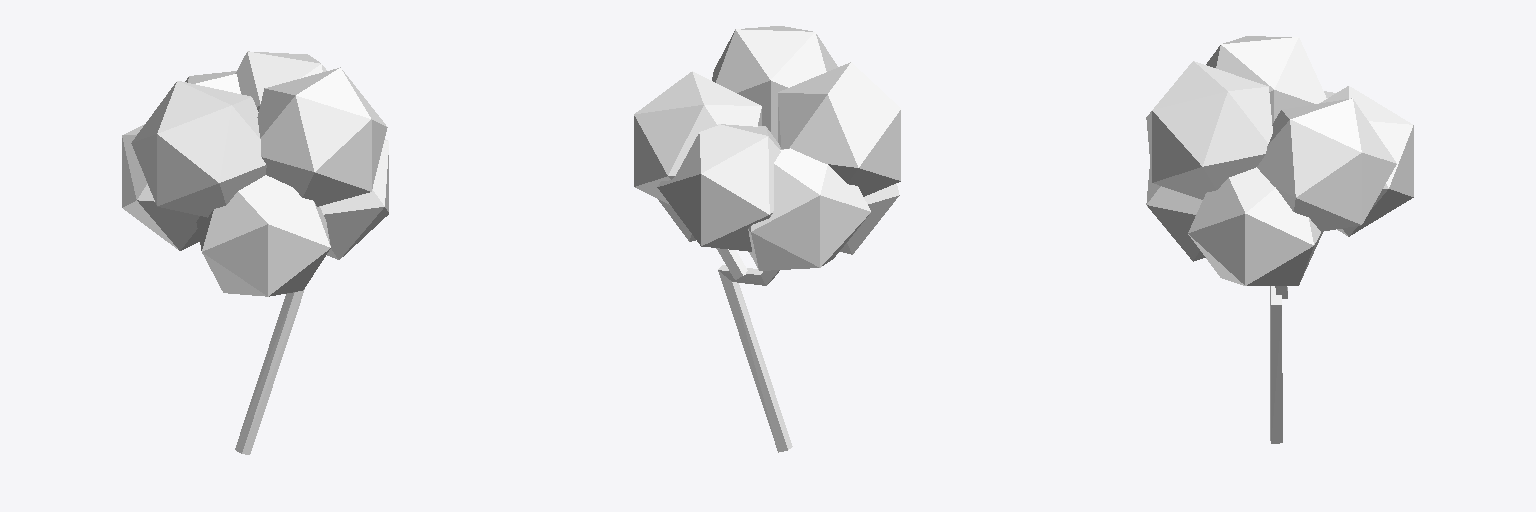
File: map5tree1.obj
The picture shows the model from 3 angles: view 1: azimuth 30°, elevation 25°; view 2: azimuth 150°, elevation 25°; view 3: azimuth 270°, elevation 25°; orthographic projection.
Parts seen in each view (by area): view 1: Arbol1; view 2: Arbol1; view 3: Arbol1.
Boxes of the visible parts, box(x1,y1,x2,y2) form: Arbol1: box(122, 51, 388, 454); Arbol1: box(634, 26, 900, 452); Arbol1: box(1146, 36, 1413, 443).
Bounding box in the file's own units: 4202 × 6682 × 4188.